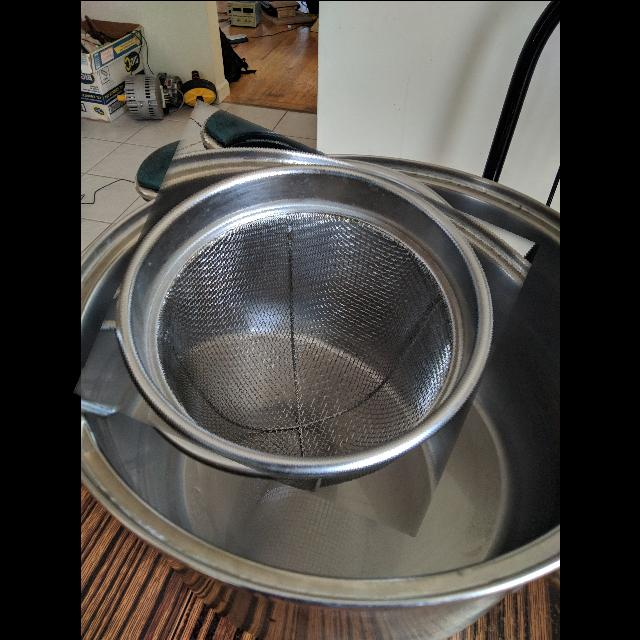Strainer: (114, 161, 487, 477)
